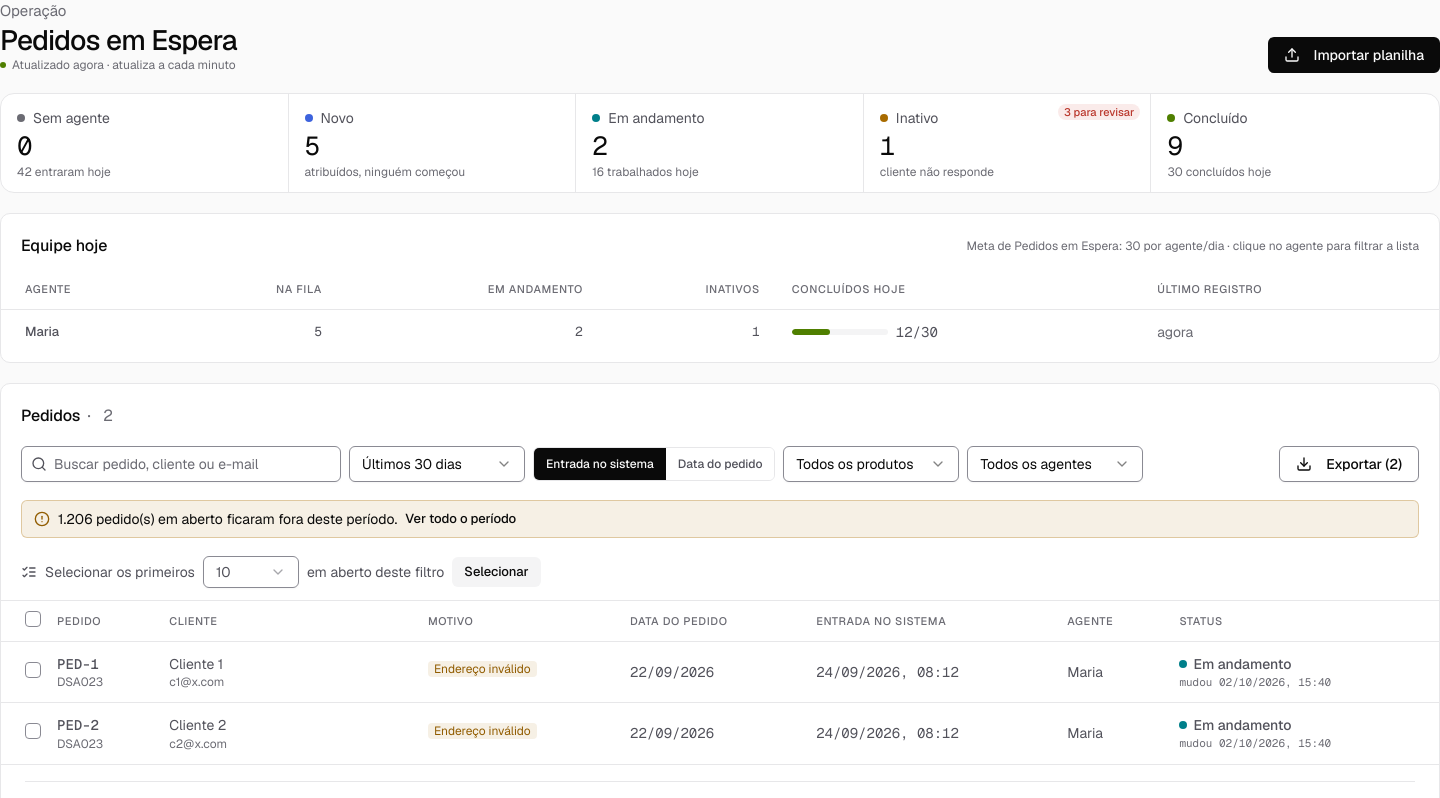
Scenario: DashboardPedidosEspera › selecionar os primeiros N mostra a barra de distribuir com a contagem de clientes
Check: the text "PED-1" is shown, box [57,654,99,672]
Click the button "Selecionar" at (496,572), box [452,557,540,587]
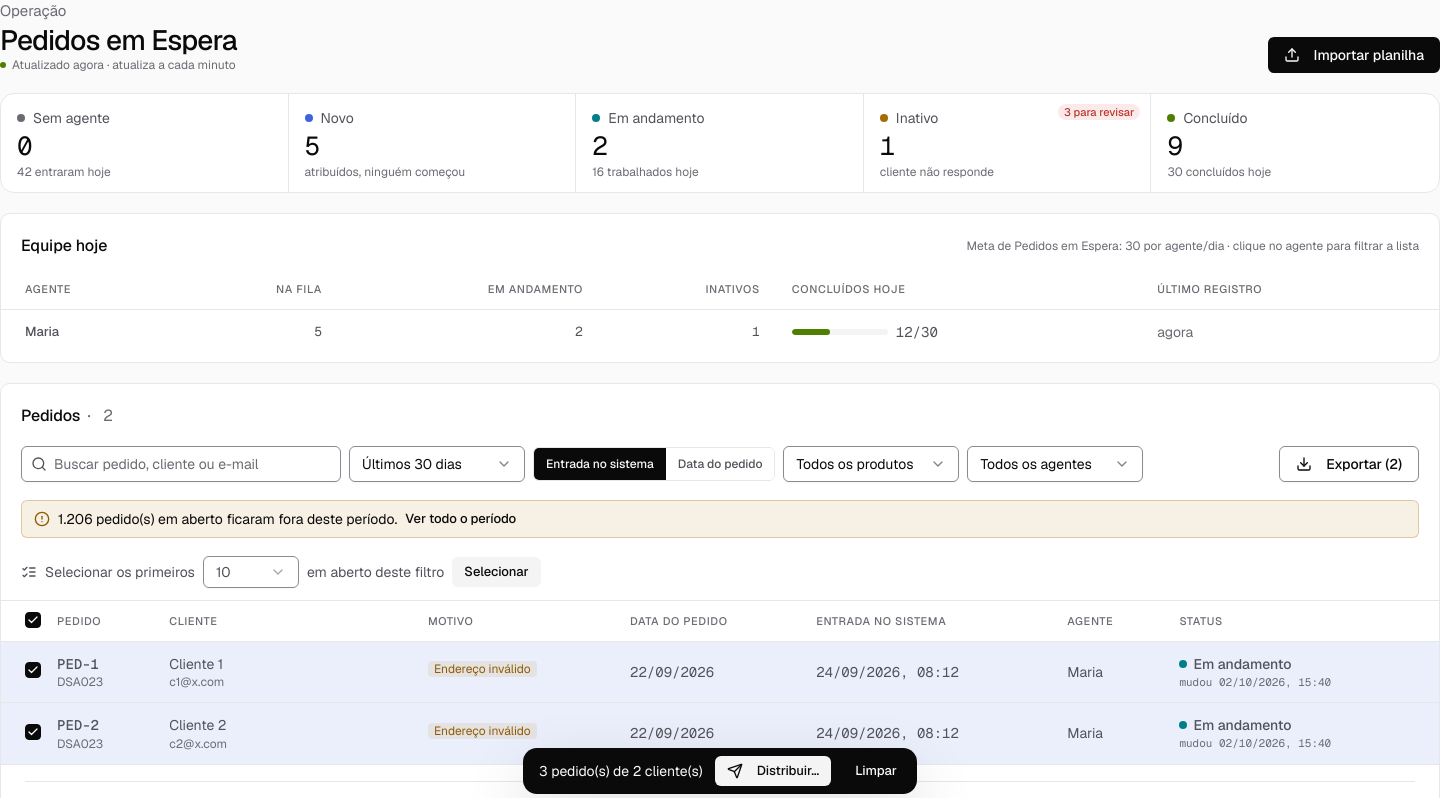
Check: the text "3 pedido(s) de 2 cliente(s)" is shown, box [539,761,703,781]
Check: the button "Distribuir…" is shown, box [715,756,831,786]
